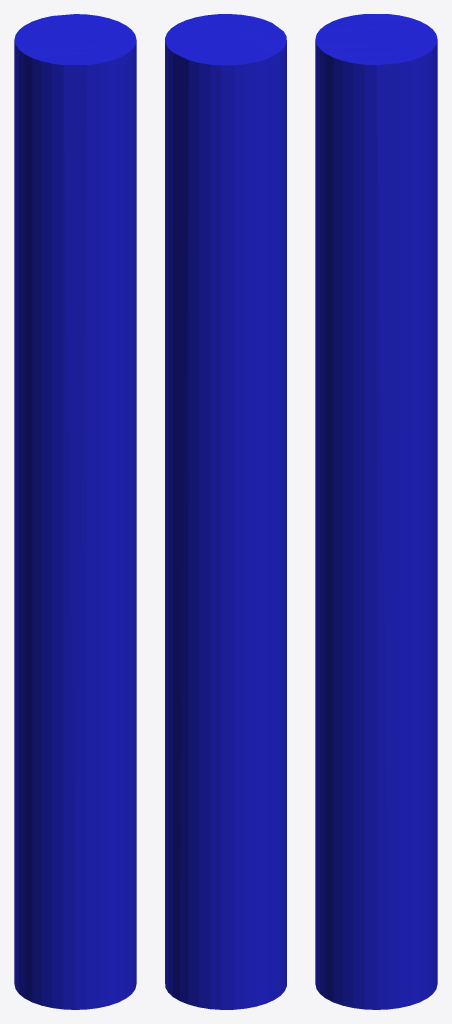
The model's file is big_stick_clock.dae.
The picture shows the model from 3 angles, left to right: view 1: azimuth 90°, elevation 25°; view 2: azimuth 210°, elevation 25°; view 3: azimuth 270°, elevation 25°; orthographic projection.
Parts seen in each view (by area): view 1: Cylinder; view 2: Cylinder; view 3: Cylinder.
Boxes of the visible parts, x1,y1,x2,y2 form: Cylinder: [14, 14, 136, 1009]; Cylinder: [165, 14, 286, 1009]; Cylinder: [315, 14, 437, 1009].
Size of the model in its own units: 2 by 2 by 17.06.
